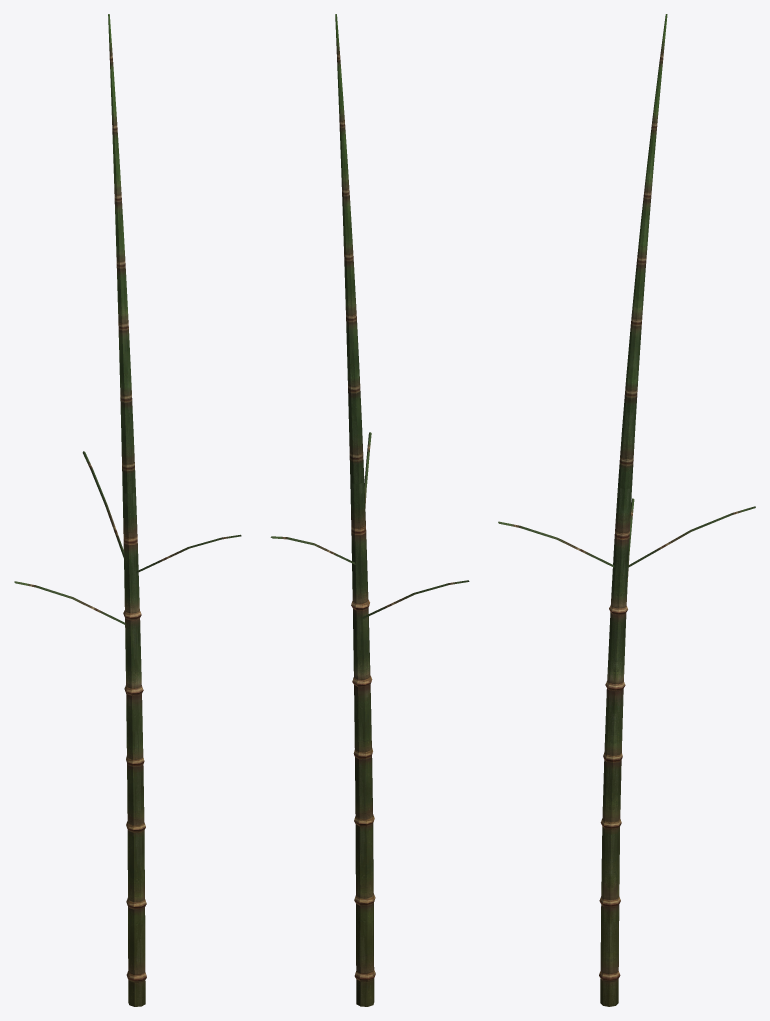
File: bg_anh_tree_te_t48_sm_old.FBX
3 views of the same model, side by side, from view 1: azimuth 30°, elevation 25°; view 2: azimuth 150°, elevation 25°; view 3: azimuth 270°, elevation 25° (orthographic). The views are drawn at different scales.
Parts seen in each view (by area): view 1: bg_anh_tree_te_t48_sm_old; view 2: bg_anh_tree_te_t48_sm_old; view 3: bg_anh_tree_te_t48_sm_old.
Boxes of the visible parts, x1,y1,x2,y2 form: bg_anh_tree_te_t48_sm_old: [14, 14, 241, 1006]; bg_anh_tree_te_t48_sm_old: [270, 14, 469, 1006]; bg_anh_tree_te_t48_sm_old: [498, 14, 755, 1006].
Size of the model in its own units: 124 by 708 by 167.
